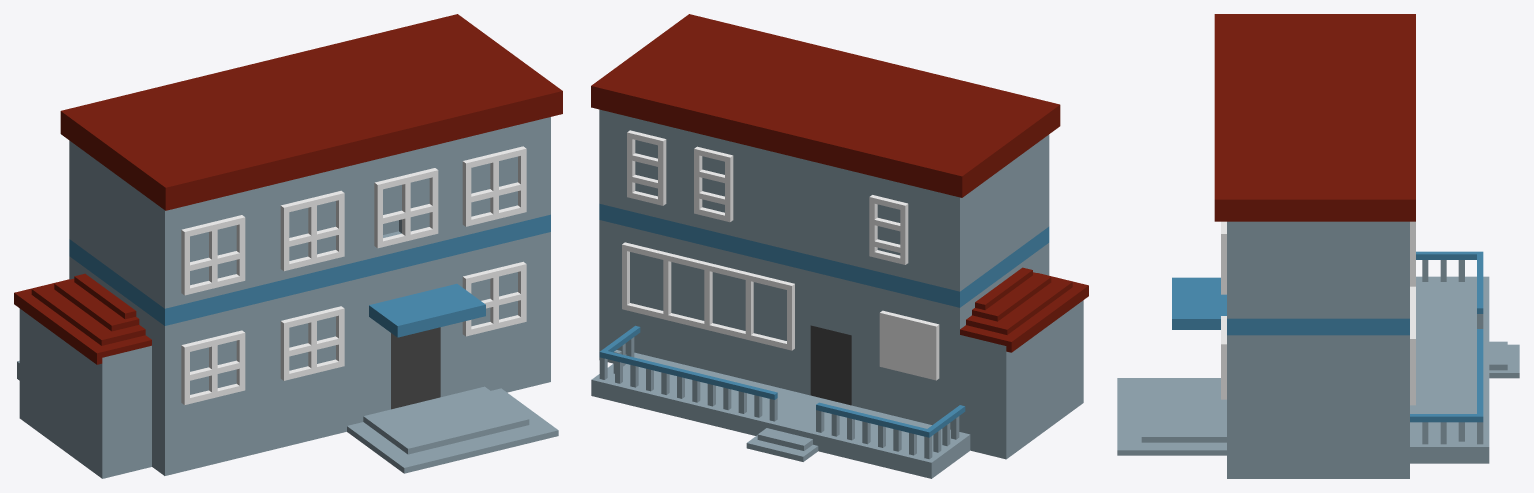
File: house5.obj
3 views of the same model, side by side, from view 1: azimuth 30°, elevation 25°; view 2: azimuth 150°, elevation 25°; view 3: azimuth 270°, elevation 25° (orthographic). The views are drawn at different scales.
Size of the model in its own units: 8.1 by 5.1 by 6.6.
Materials: 1 (1 with a texture image).
